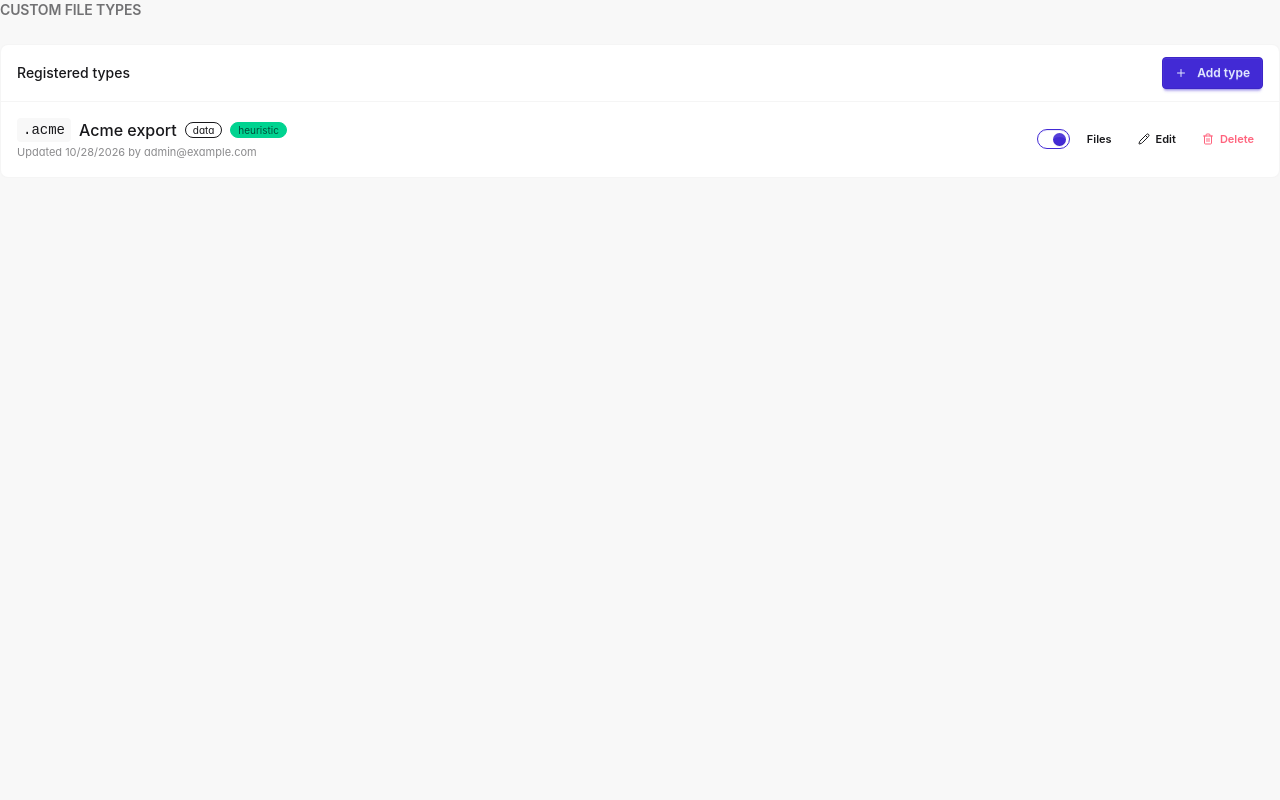
CustomFileTypes › after a save that changes how files are read › can be reopened later from the "Files" button, and refuses re-indexing a switched-off type
Click the button with test id "cft-files" at (1099, 139), box [1078,127,1121,151]
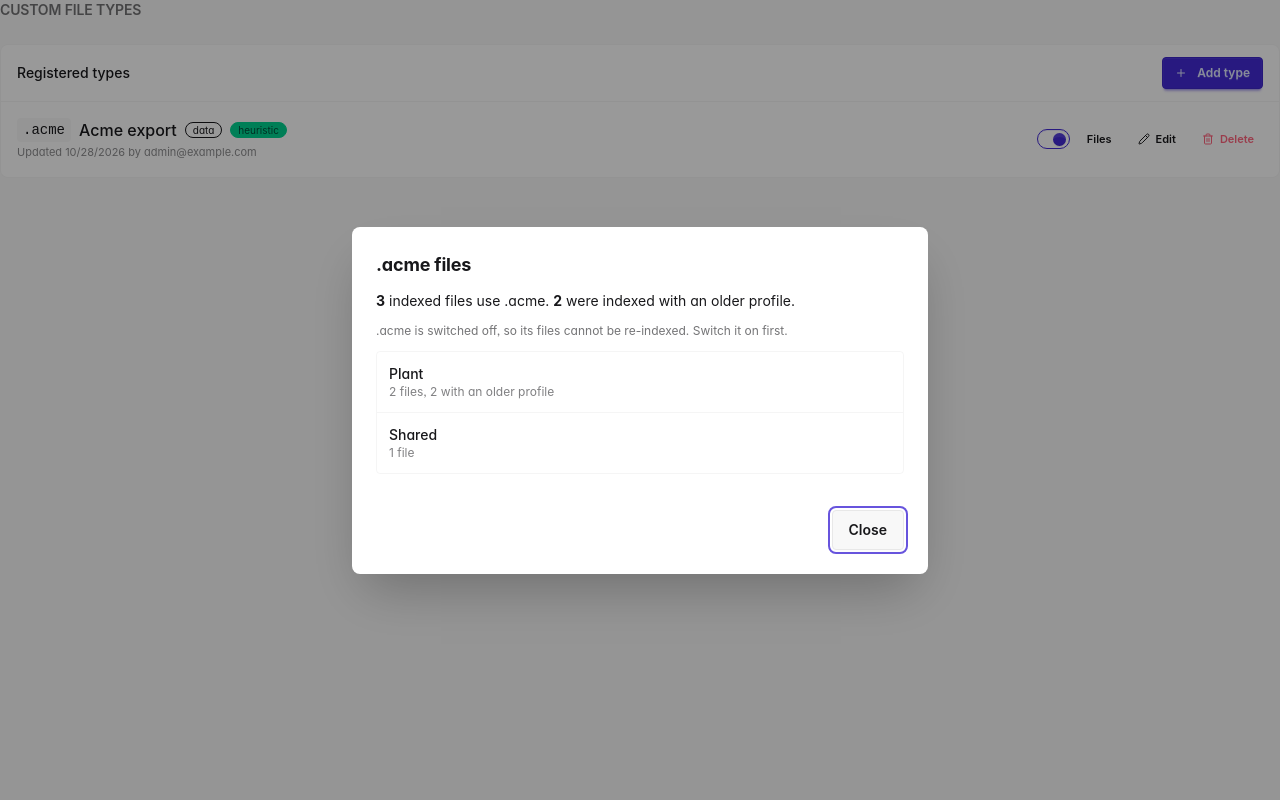
Now the element with test id "cft-usage-summary" shows "3 indexed files use .acme", box [376,292,795,308]
Now the text with test id "cft-usage-no-reindex" shows "switched off", box [376,322,788,338]
